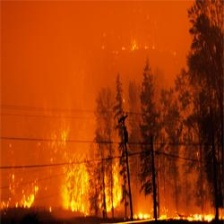fire: (1, 156, 224, 222)
